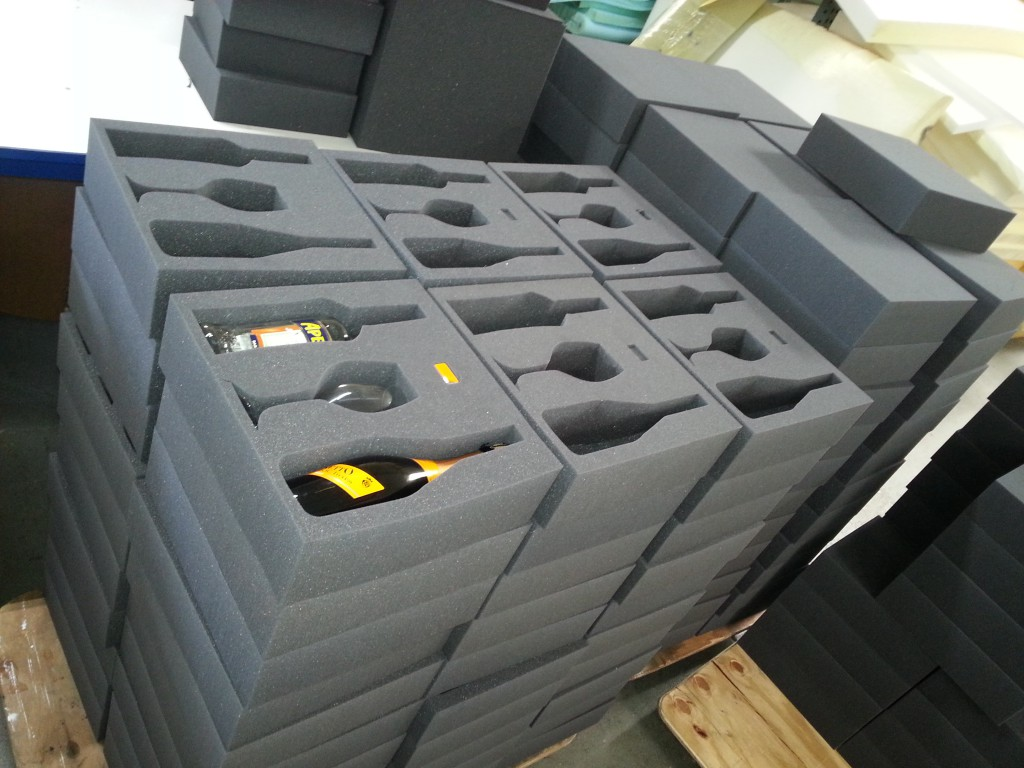Boxes: (50, 38, 1024, 766)
